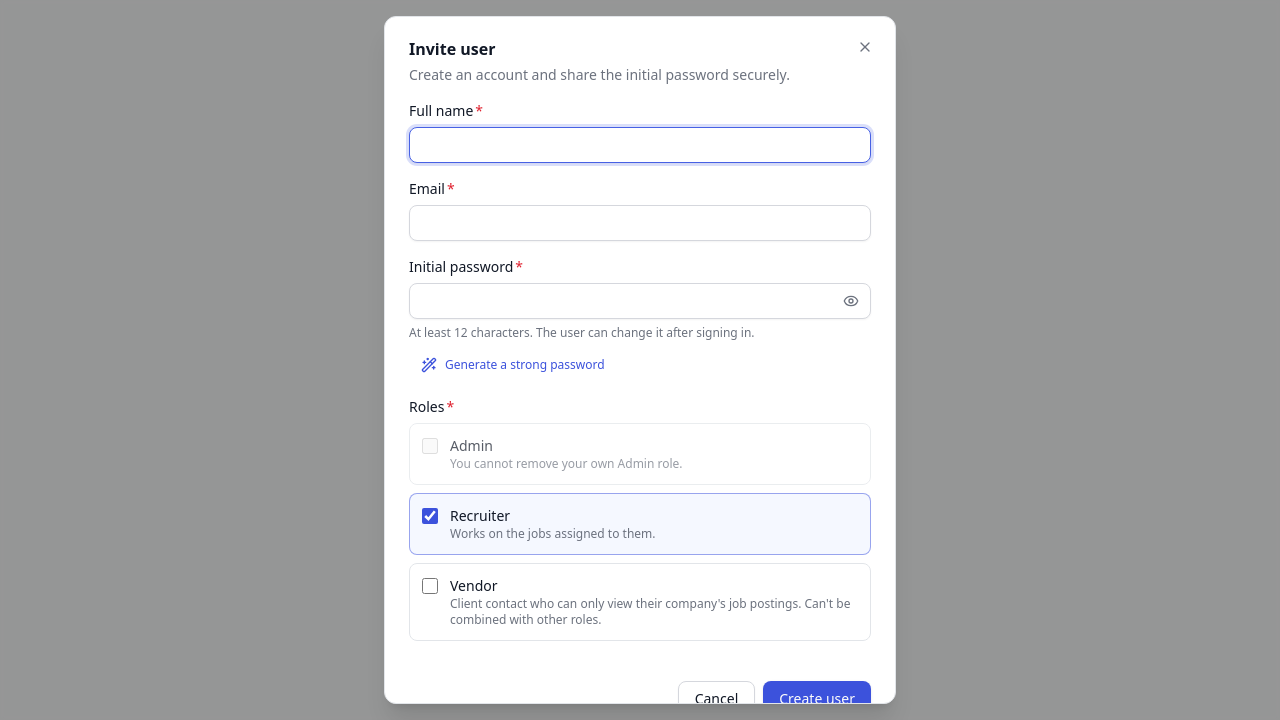
Scenario: UserFormDialog › shows a duplicate email conflict on the email field
The image size is (1280, 720).
Type "Dup" into the field labelled "Full name" at [640, 145], box [409,127,871,163]
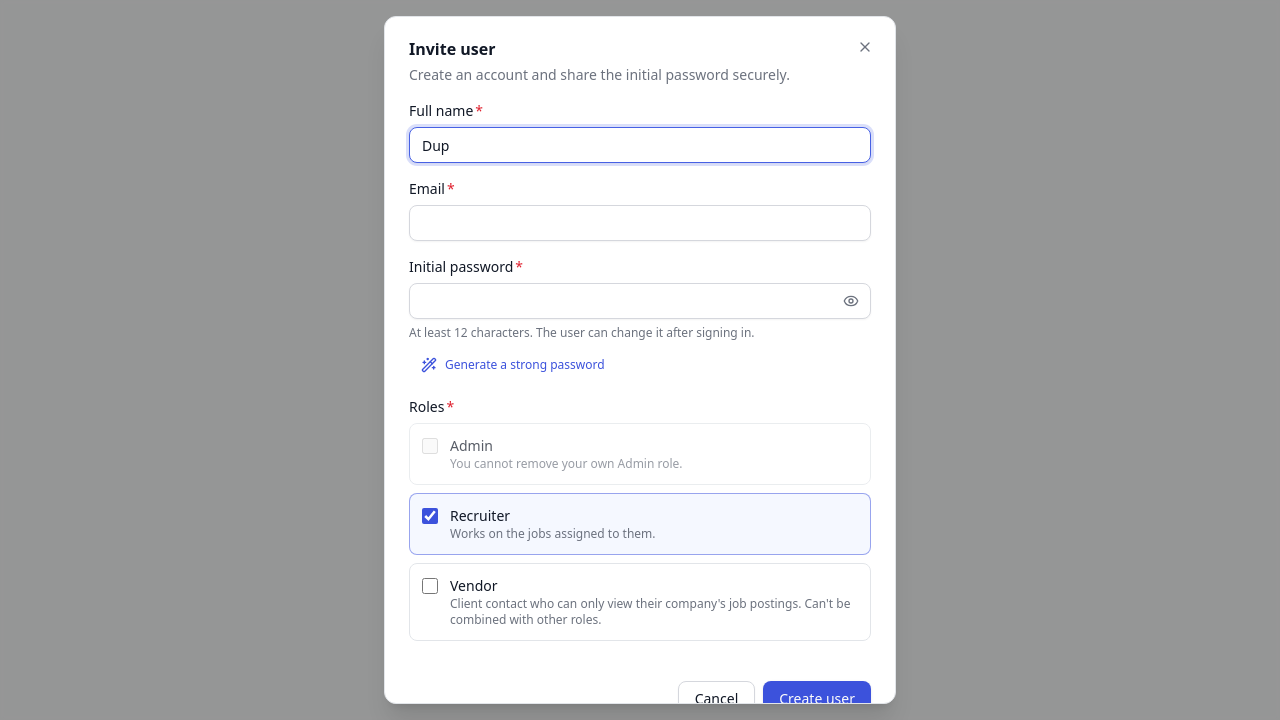
Type "dup@example.test" into the field labelled "Email" at [640, 223], box [409,205,871,241]
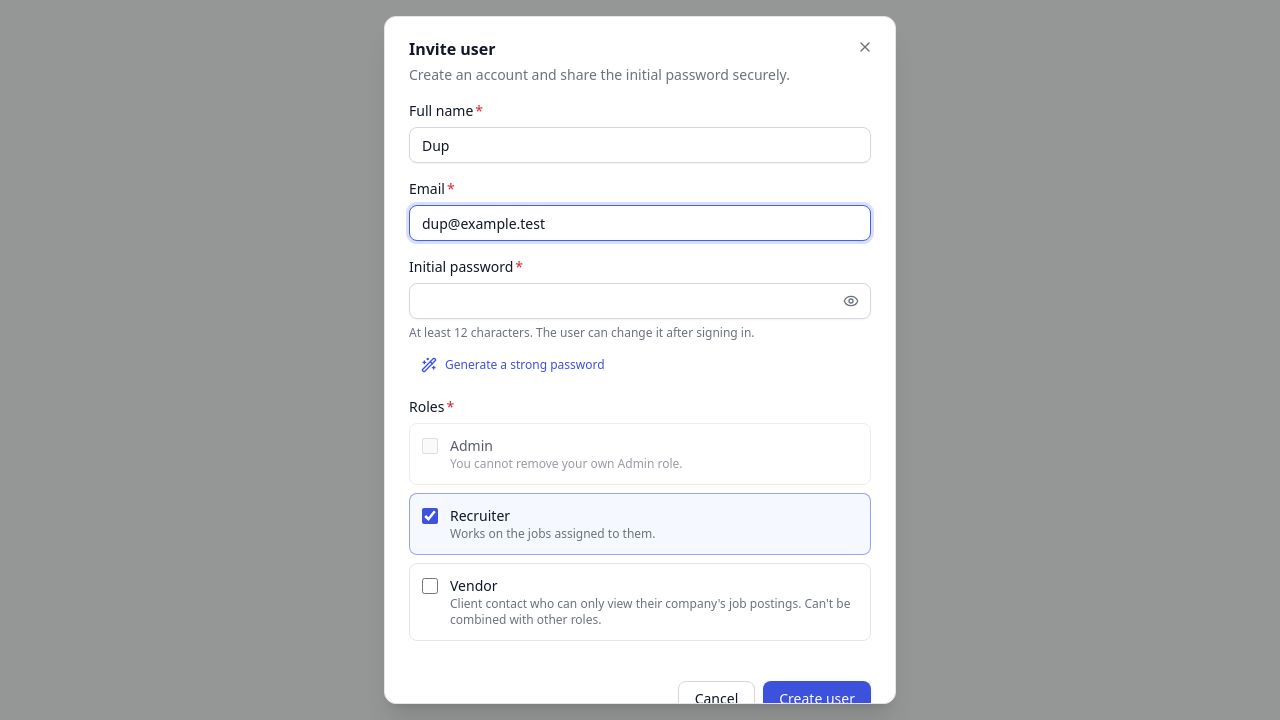
Type "long-enough-password" into the password field labelled "Initial password*" at [640, 301], box [409,283,871,319]
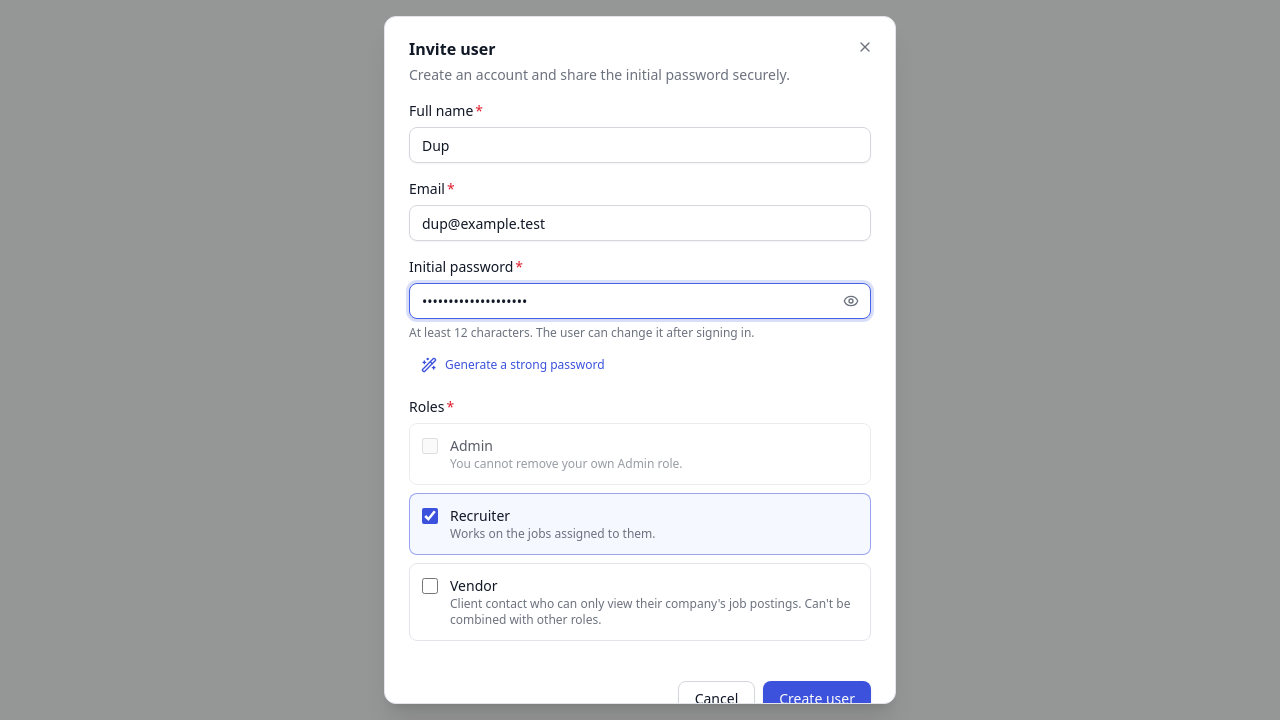
Click the button "Create user" at [817, 699], box [763,681,871,717]
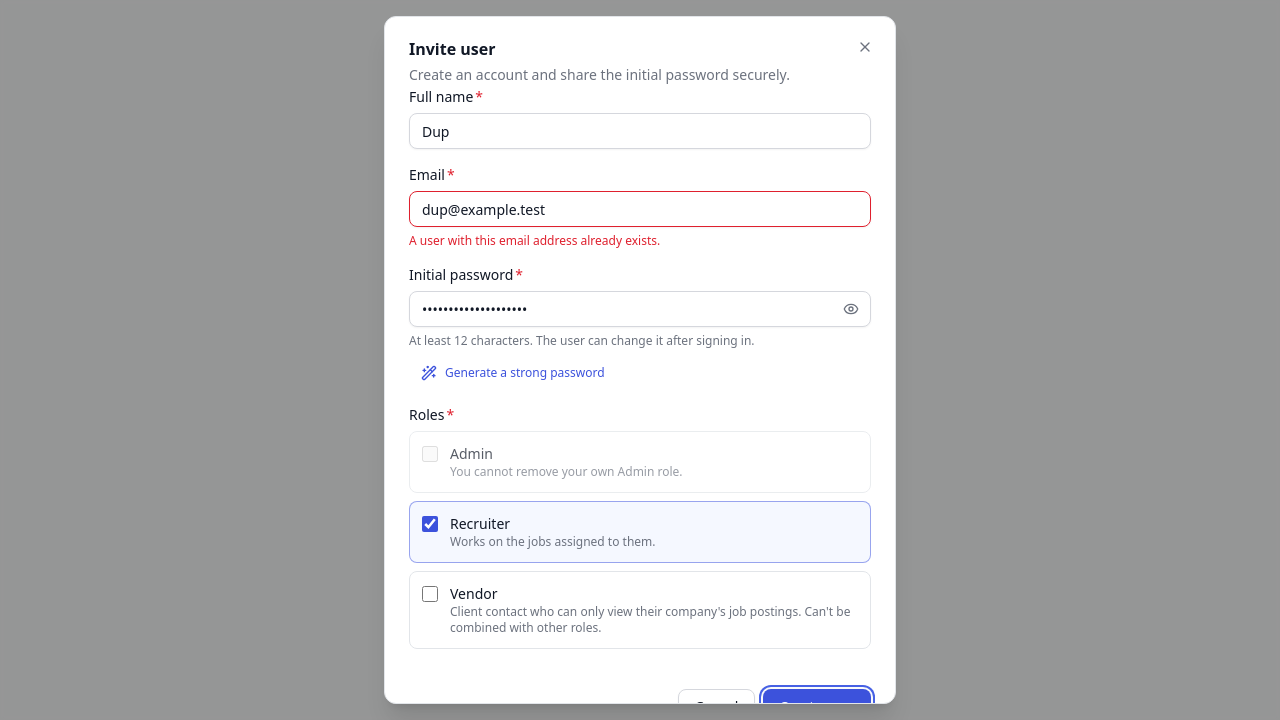
Expected: the text "A user with this email address already exists." is shown, [409,232,660,249]
